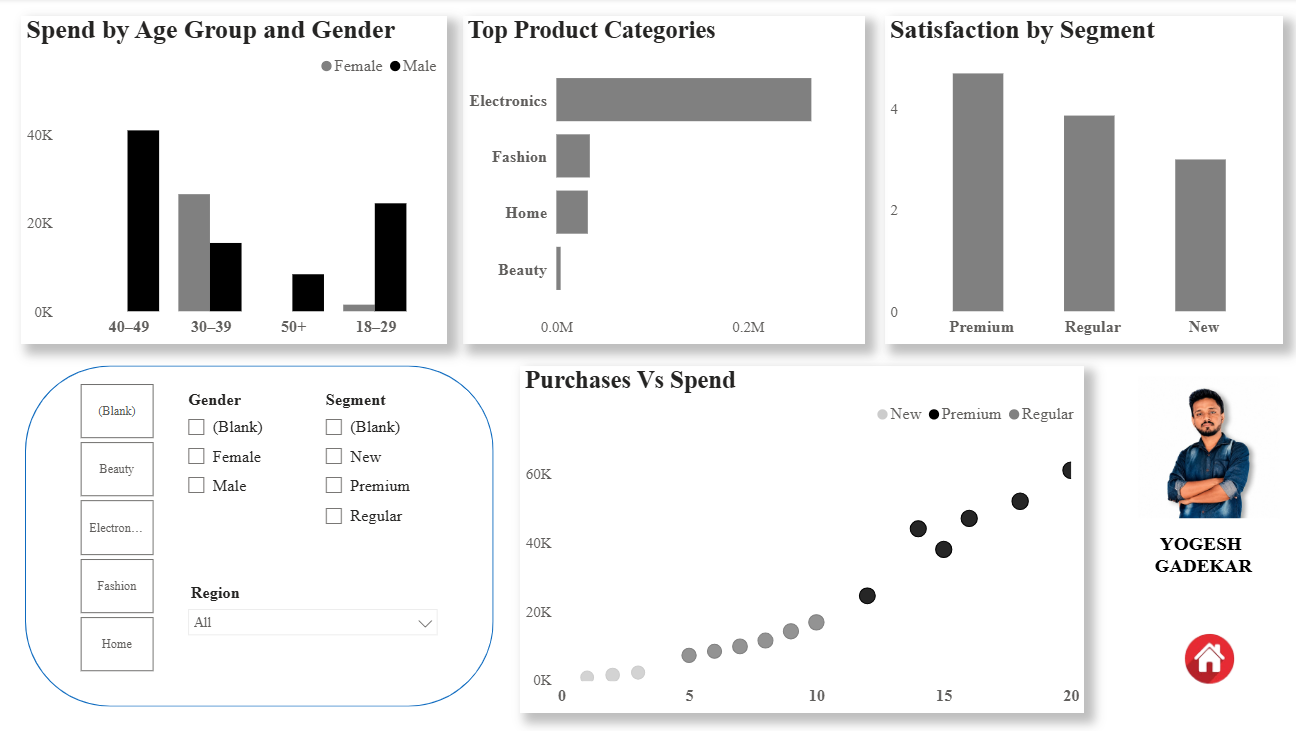

The page's visual inventory and layout, read from the dashboard file:
{"tool":"powerbi","page":{"name":"Page 2","canvas":[1280,720],"ordinal":1},"visuals":[{"type":"clusteredColumnChart","title":"Spend by Age Group and Gender","fields":{"Series":["CustomerData.Gender"],"Category":["CustomerData.Age Group"],"Y":["CustomerData.Avg Spend"]},"box":[26.2,16.9,416.9,321.5],"z":0},{"type":"barChart","title":"Top Product Categories","fields":{"Category":["CustomerData.ProductCategory"],"Y":["CustomerData.Total Revenue"]},"box":[456.9,16.9,393.8,321.5],"z":1000},{"type":"shape","box":[29.1,360,458.5,333.8],"z":1000,"group":"g1"},{"type":"scatterChart","title":"Purchases Vs Spend","fields":{"X":["Sum(CustomerData.TotalPurchases)"],"Y":["Sum(CustomerData.TotalSpend)"],"Size":["CustomerData.Avg Satisfaction"],"Series":["CustomerData.Segment"],"Category":["CustomerData.Name"]},"box":[513.8,360,552.3,340],"z":2000},{"type":"columnChart","title":"Satisfaction by Segment","fields":{"Y":["CustomerData.Avg Satisfaction"],"Category":["CustomerData.Segment"]},"box":[870.8,16.9,389.2,321.5],"z":3000},{"type":"group","id":"g1","title":"Group 1","box":[29.1,360,458.5,333.8],"z":4000},{"type":"image","box":[1113.8,370.8,146.2,138.5],"z":5000},{"type":"slicer","fields":{"Values":["CustomerData.Region"]},"box":[178.5,567.7,264.6,87.7],"z":5000,"group":"g1"},{"type":"slicer","fields":{"Values":["CustomerData.Segment"]},"box":[310.8,380,123.1,150.8],"z":6000,"group":"g1"},{"type":"textbox","box":[1104.6,518.5,155.4,83.1],"z":6000},{"type":"slicer","fields":{"Values":["CustomerData.Gender"]},"box":[175.4,380,118.5,147.7],"z":7000,"group":"g1"},{"type":"image","box":[1118.5,601.5,138.5,89.2],"z":7000},{"type":"slicer","fields":{"Values":["CustomerData.ProductCategory"]},"box":[57,370.8,121.5,295.4],"z":8000,"group":"g1"}]}

Visuals, with their boxes in screenshot pixels (x1, y1, x2, y2), scaled from the page's 1280x720 canvas onto the 1296x731 screenshot:
"Spend by Age Group and Gender" clusteredColumnChart: 27,17,449,344
"Top Product Categories" barChart: 463,17,861,344
shape: 29,366,494,704
"Purchases Vs Spend" scatterChart: 520,366,1079,711
"Satisfaction by Segment" columnChart: 882,17,1276,344
"Group 1" group: 29,366,494,704
image: 1128,376,1276,517
slicer - CustomerData.Region: 181,576,449,665
slicer - CustomerData.Segment: 315,386,439,539
textbox: 1118,526,1276,611
slicer - CustomerData.Gender: 178,386,298,536
image: 1132,611,1273,701
slicer - CustomerData.ProductCategory: 58,376,181,676
